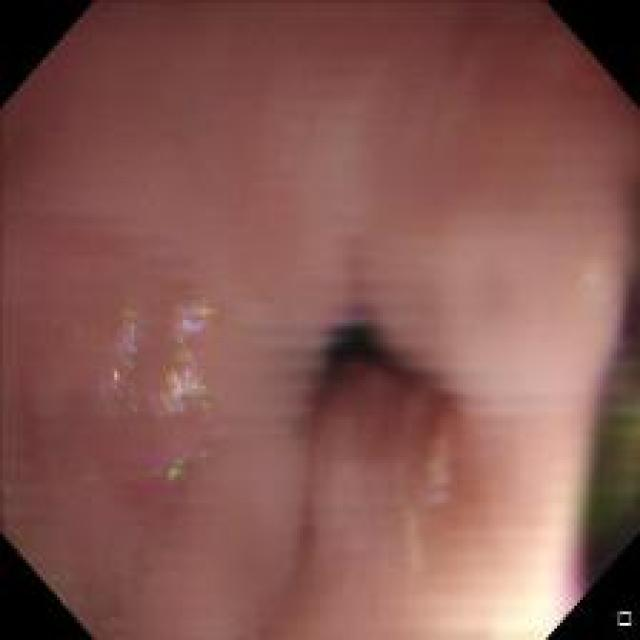blur: (1, 2, 636, 635)
color misalignment: (94, 288, 225, 430), (592, 228, 638, 576), (145, 441, 210, 489), (545, 546, 595, 605)
contrast: (295, 299, 435, 422)
saturation: (498, 512, 589, 635)
